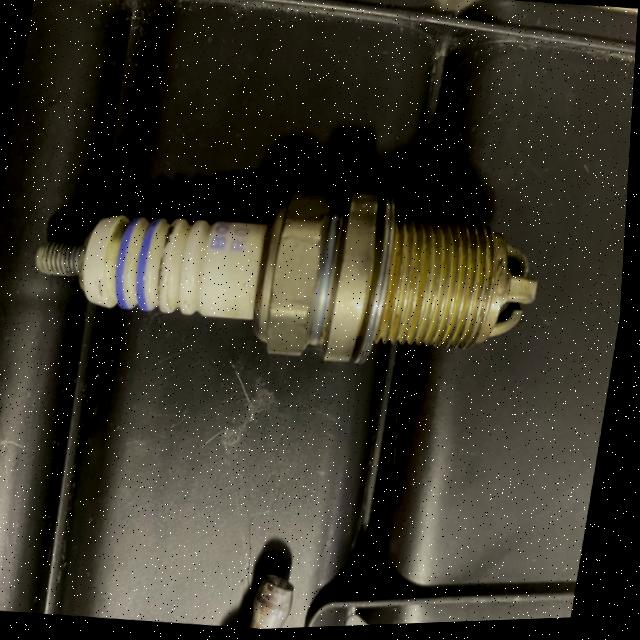spark-plug: (14, 152, 553, 403)
